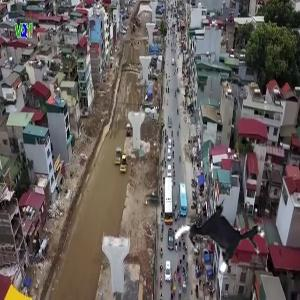drone: (172, 192, 269, 289)
